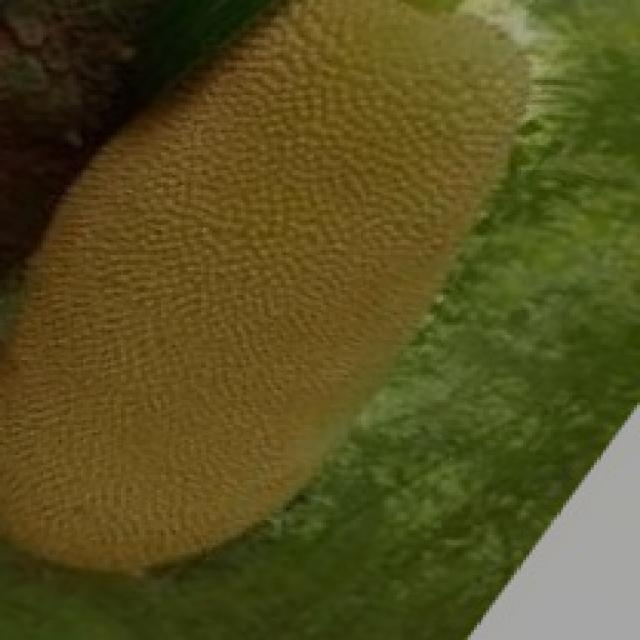Fruit: (200, 0, 578, 405), (0, 260, 400, 625)
